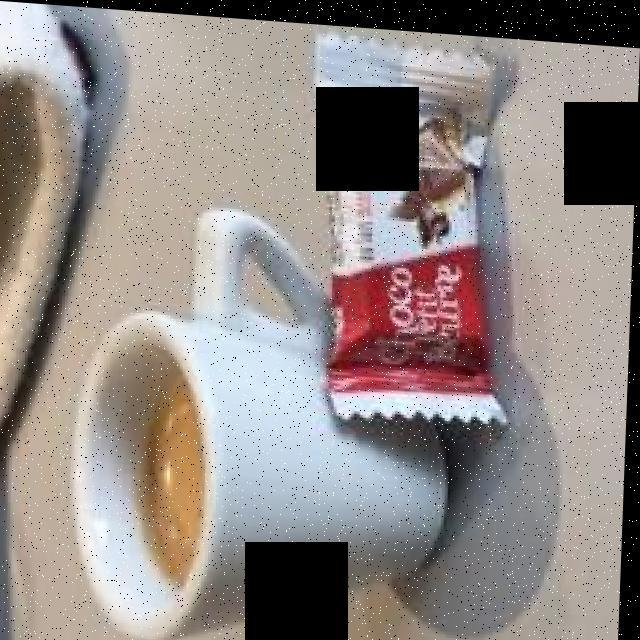coffee: (143, 381, 210, 580)
drink: (152, 370, 202, 575)
espresso: (148, 369, 210, 577)
